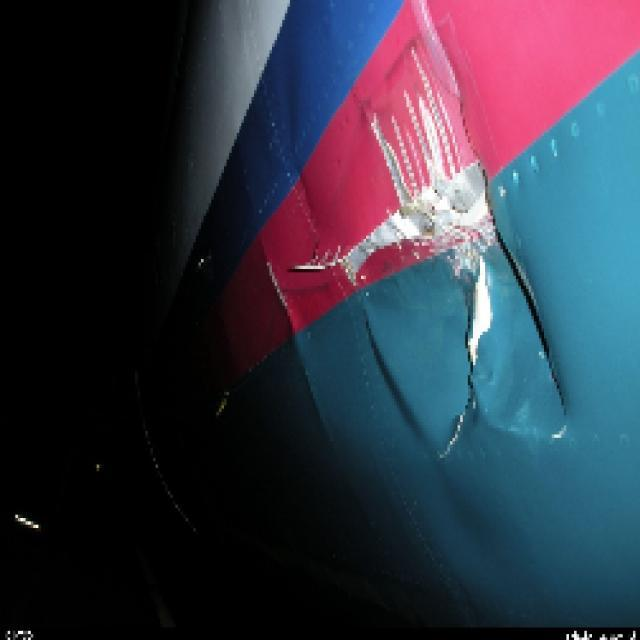crack: (439, 259, 498, 462)
dent: (369, 312, 440, 461), (485, 288, 535, 431)
